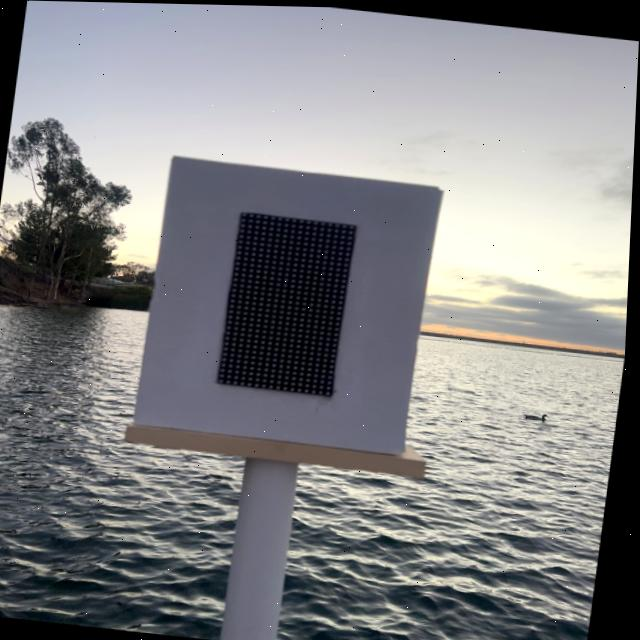led: (149, 165, 423, 437)
